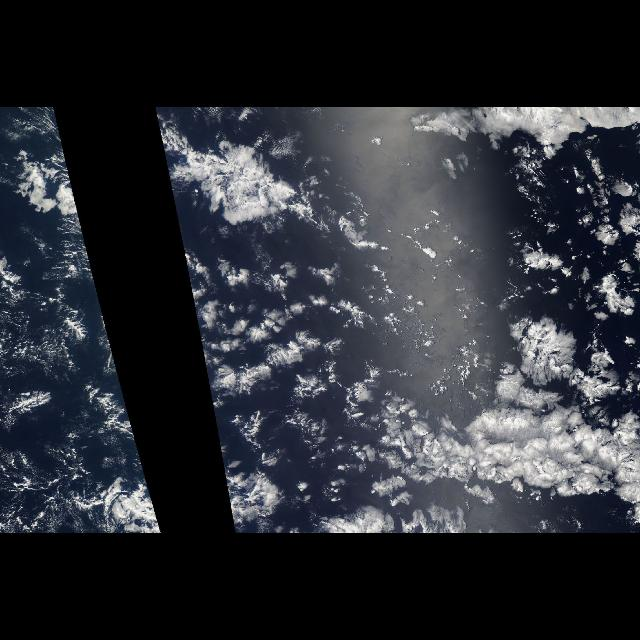Flower: (156, 120, 640, 530), (7, 120, 160, 522)
